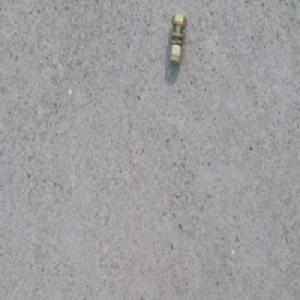BoltNutSet: (165, 13, 189, 63)
